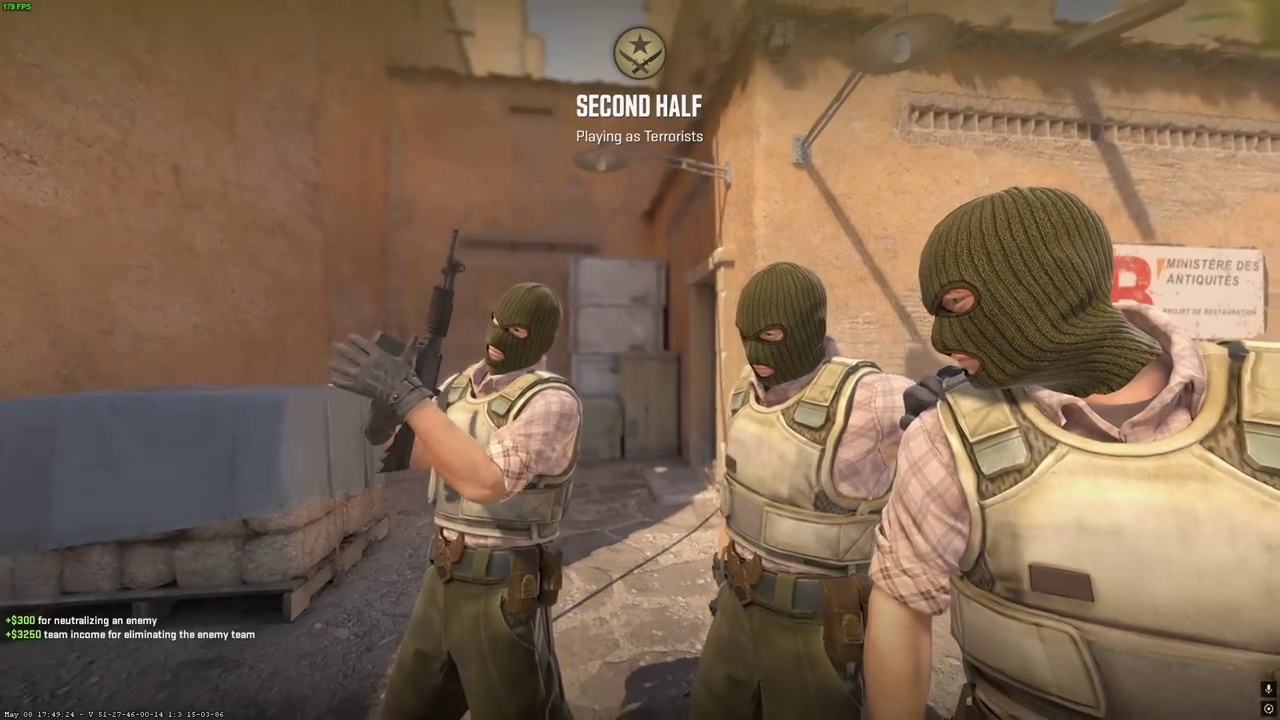Terrorist: (881, 191, 1280, 720), (689, 261, 918, 720), (381, 281, 583, 719)
